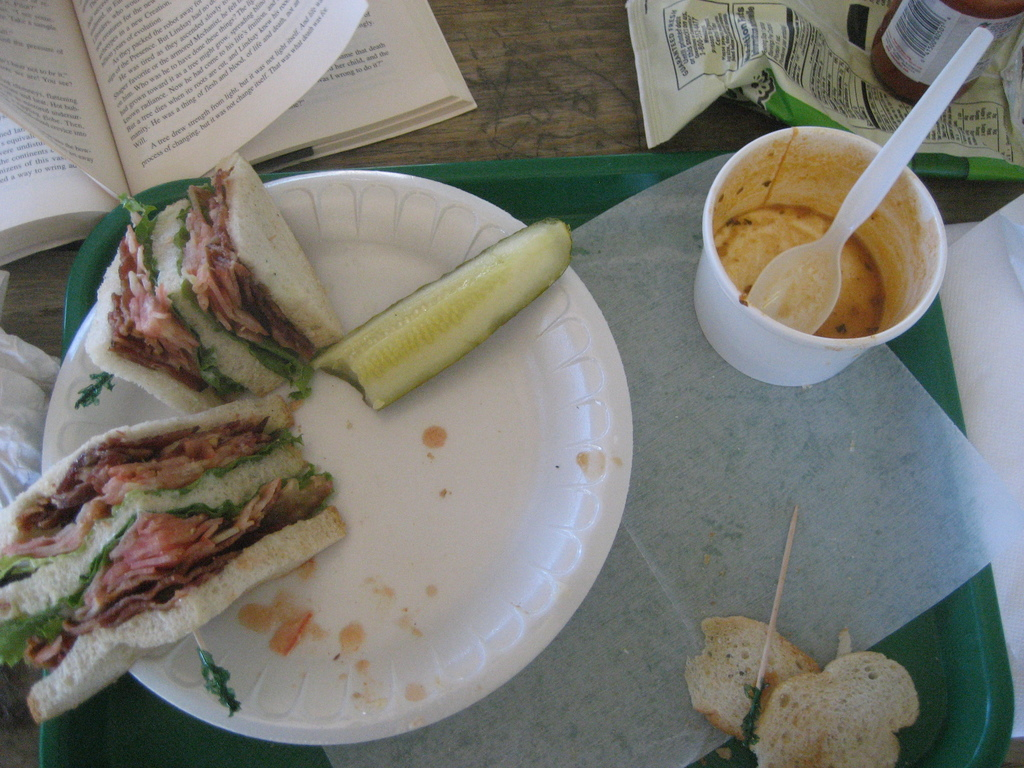sandwich: (0, 381, 349, 721), (83, 154, 337, 420)
